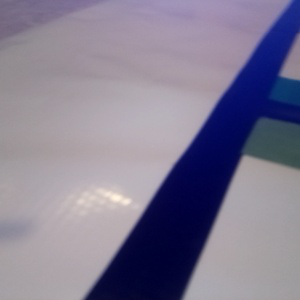bottom_right: (214, 105, 299, 169)
top_right: (238, 76, 300, 117)
